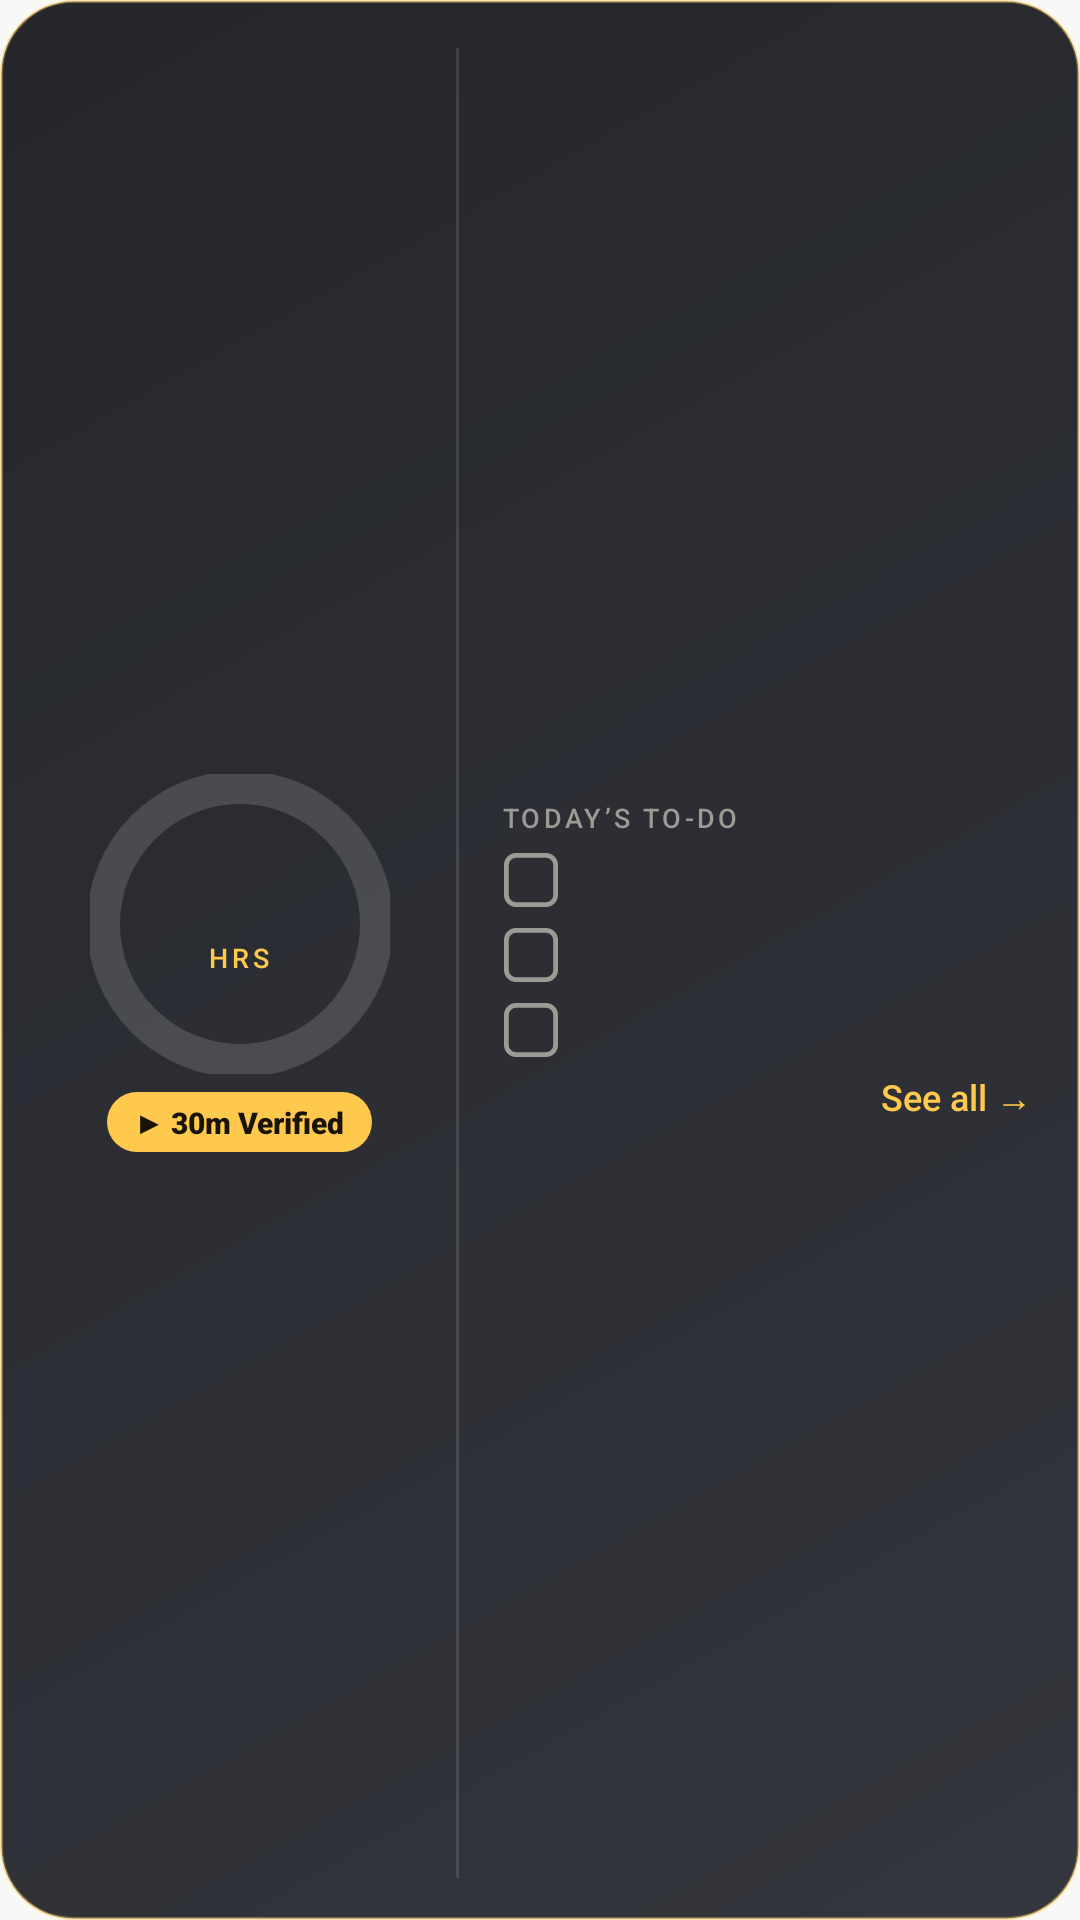

Point at icon controls on the screen. Image size 1080px x 1920px, points as point (x, y).
Toggle task: point (531, 880), point (531, 955), point (531, 1030)
